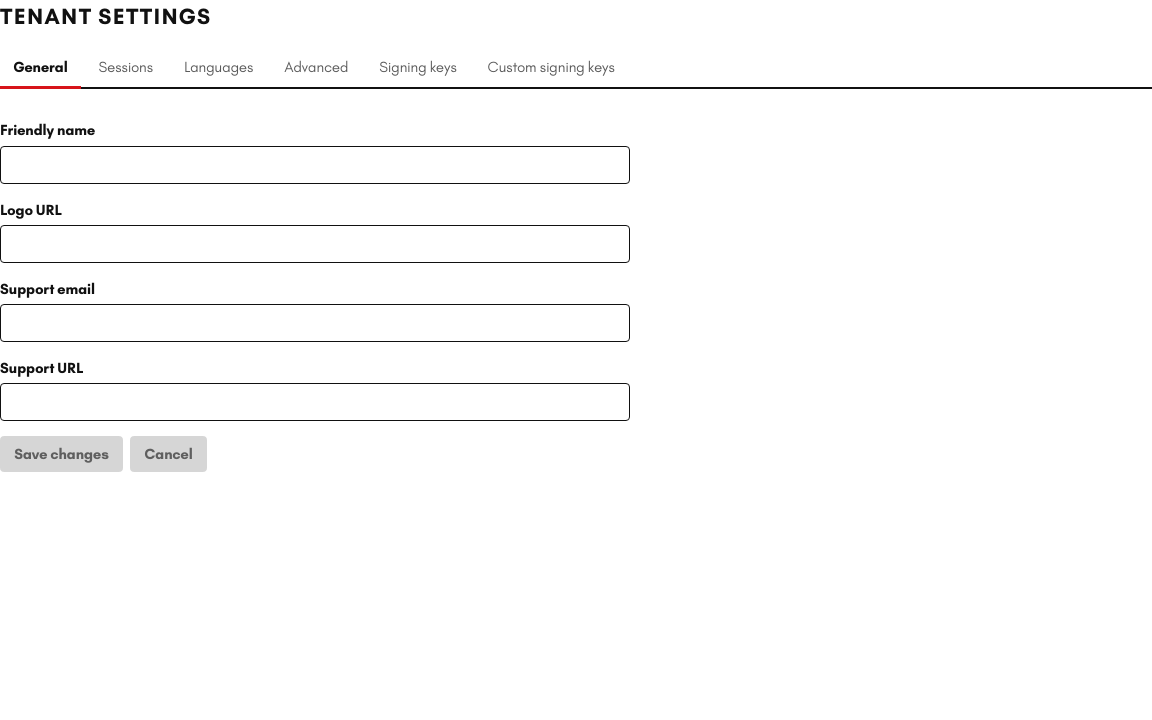
Scenario: managed signing keys settings › blocks another rotation after a lost response until a later refresh succeeds
The width and height of the screenshot is (1152, 720).
Press the mouse on the tab "Signing keys" at (418, 69), box [366, 49, 470, 89]
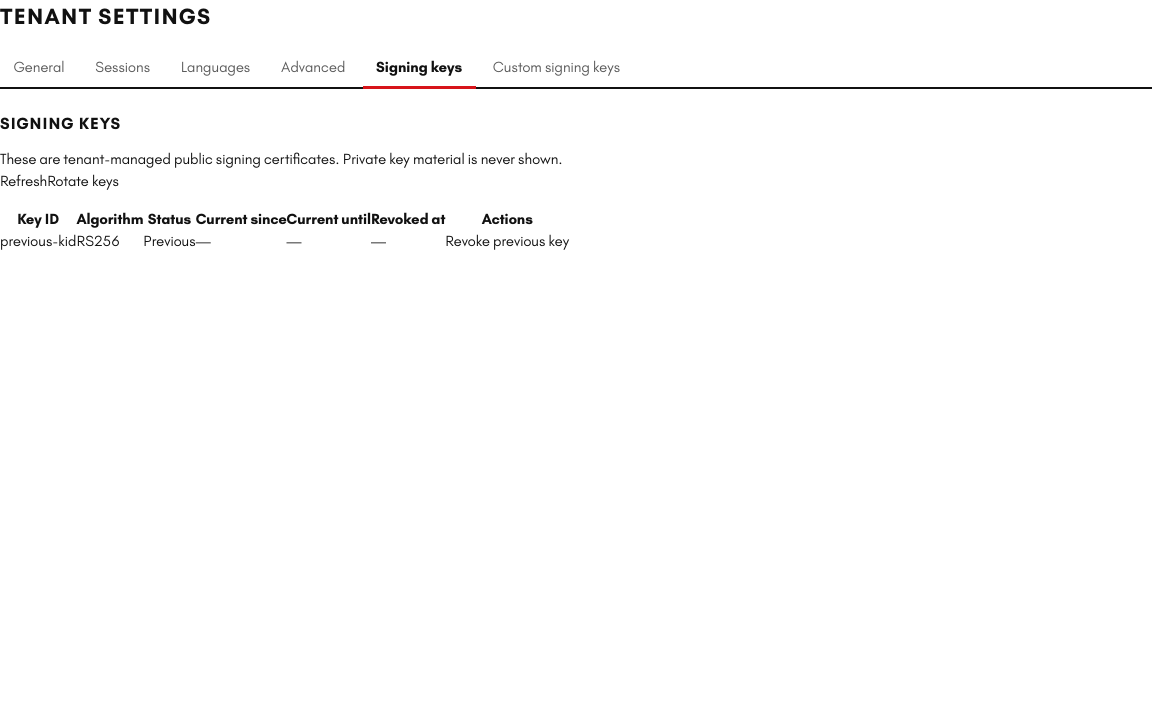
Click the button "Rotate keys".
click(83, 182)  # box [47, 170, 119, 193]
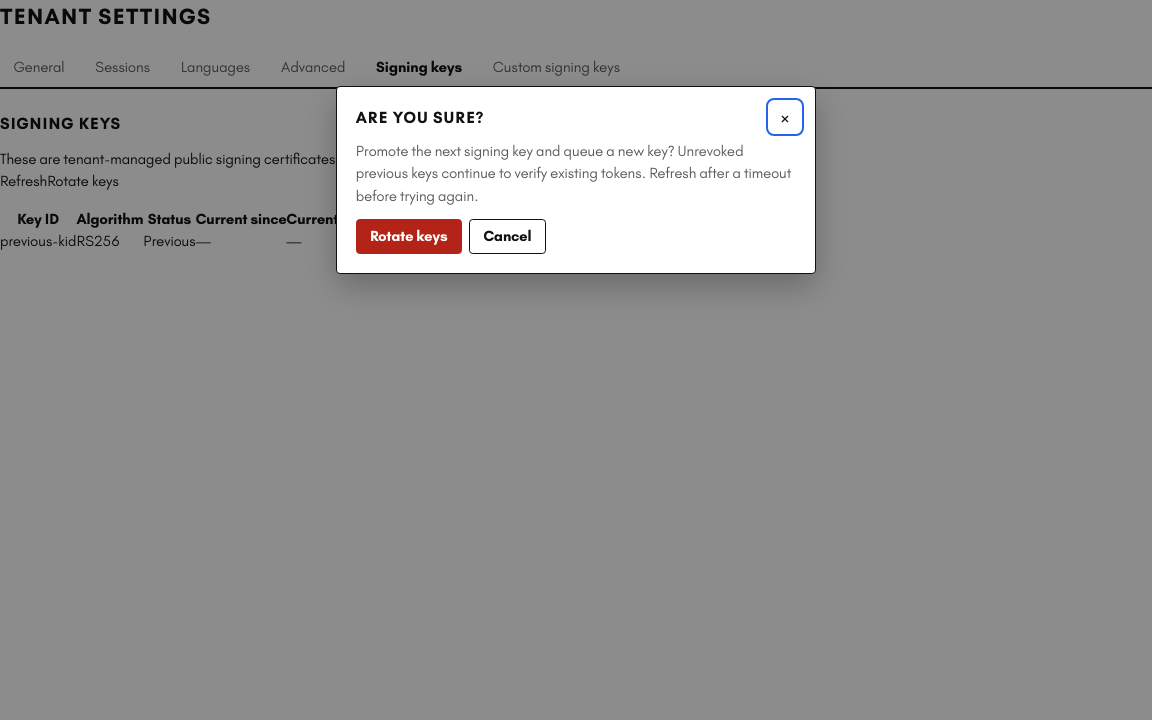
Click the submit button.
click(409, 236)  # box [356, 219, 462, 254]
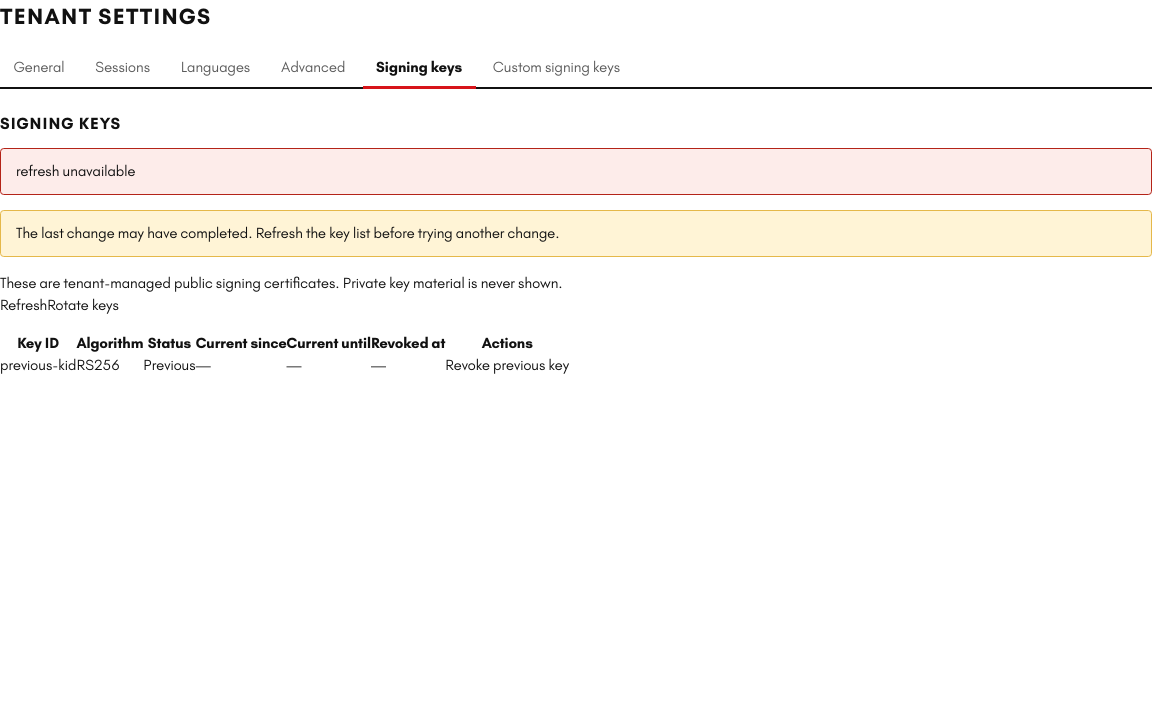
Result: the text "Refresh the key list" is shown at [16, 224, 560, 242]
Result: the button "Rotate keys" is disabled at [47, 294, 119, 317]
Click the button "Refresh".
click(24, 306)  # box [0, 294, 47, 317]
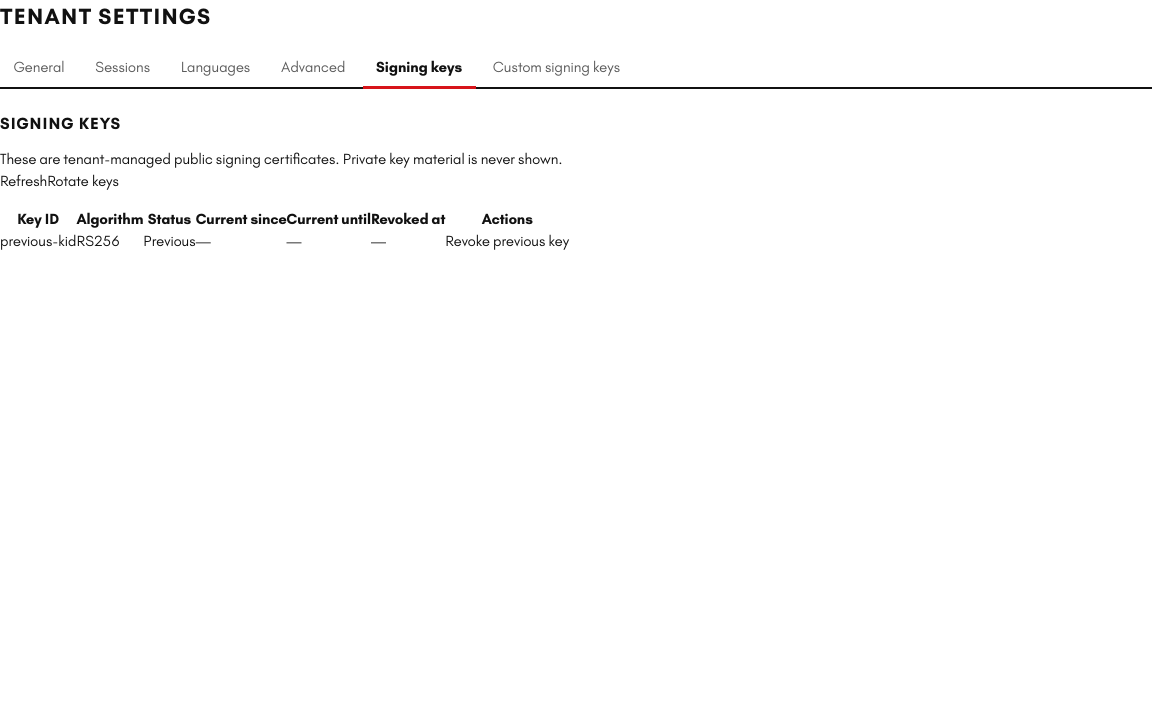
Result: the button "Rotate keys" is enabled at [47, 170, 119, 193]
